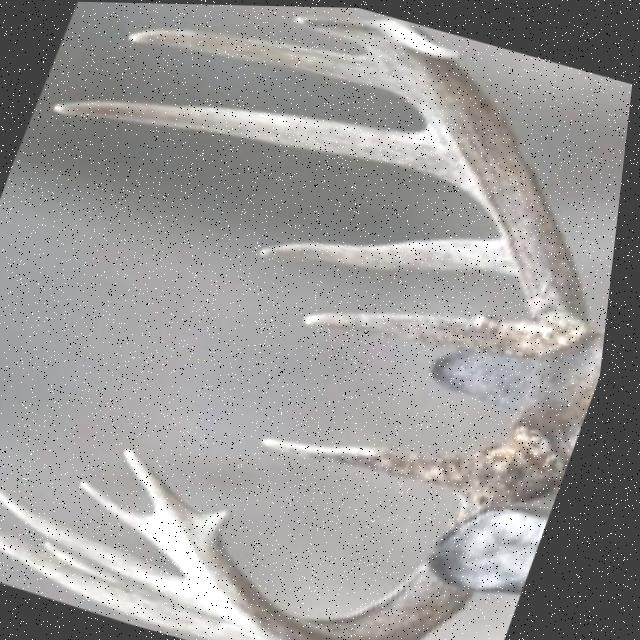E1: (290, 14, 376, 46)
L-F: (372, 16, 598, 352)
L-G1: (305, 308, 552, 354)
L-G2: (259, 236, 519, 274)
L-G3: (50, 100, 453, 181)
L-G4: (125, 27, 405, 97)
R-G1: (269, 435, 485, 497)
